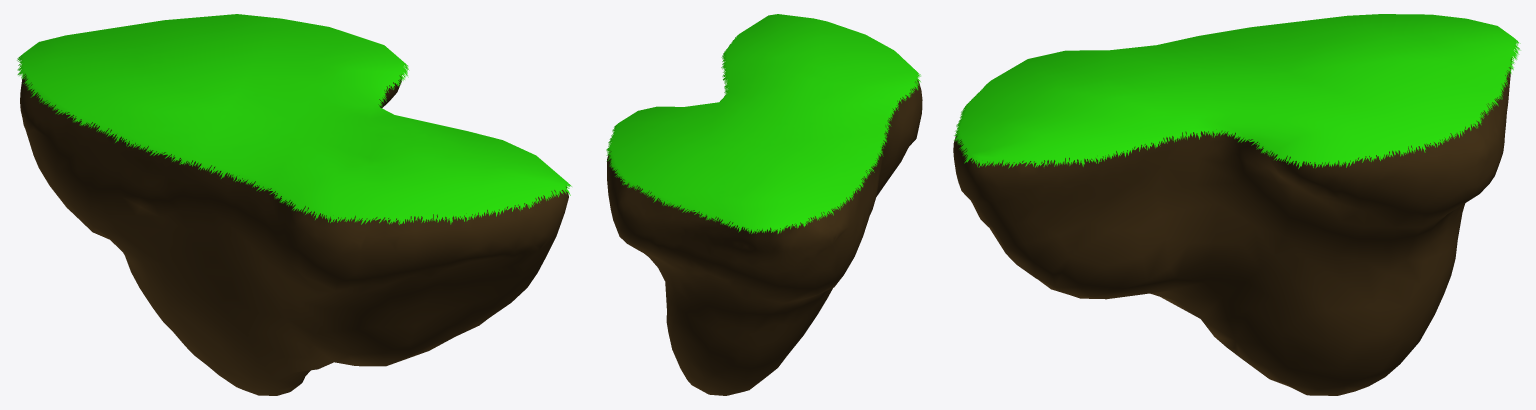
The model's file is IslandGrassMedium2.FBX.
3 views of the same model, side by side, from view 1: azimuth 30°, elevation 25°; view 2: azimuth 150°, elevation 25°; view 3: azimuth 270°, elevation 25° (orthographic). The views are drawn at different scales.
Visible parts, largest first — view 1: Plane006; view 2: Plane006; view 3: Plane006.
Boxes of the visible parts, x1,y1,x2,y2 form: Plane006: [17, 14, 571, 395]; Plane006: [606, 14, 922, 395]; Plane006: [953, 14, 1520, 395].
Size of the model in its own units: 1541 by 1395 by 2429.
